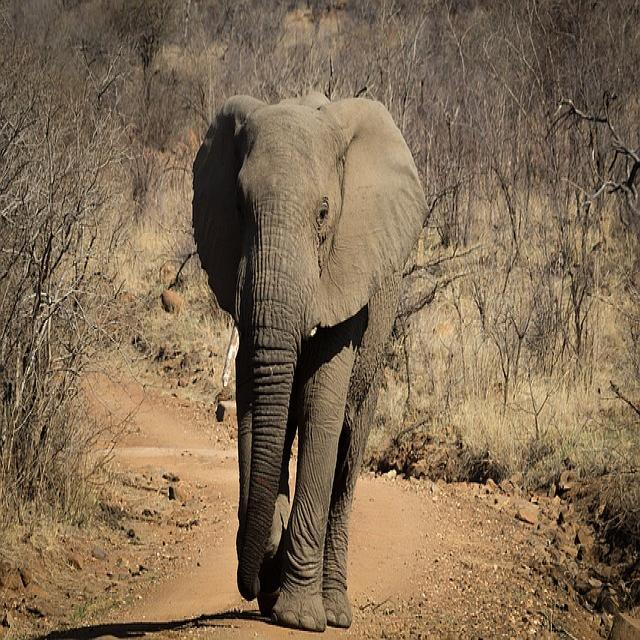elephant: (192, 94, 426, 630)
